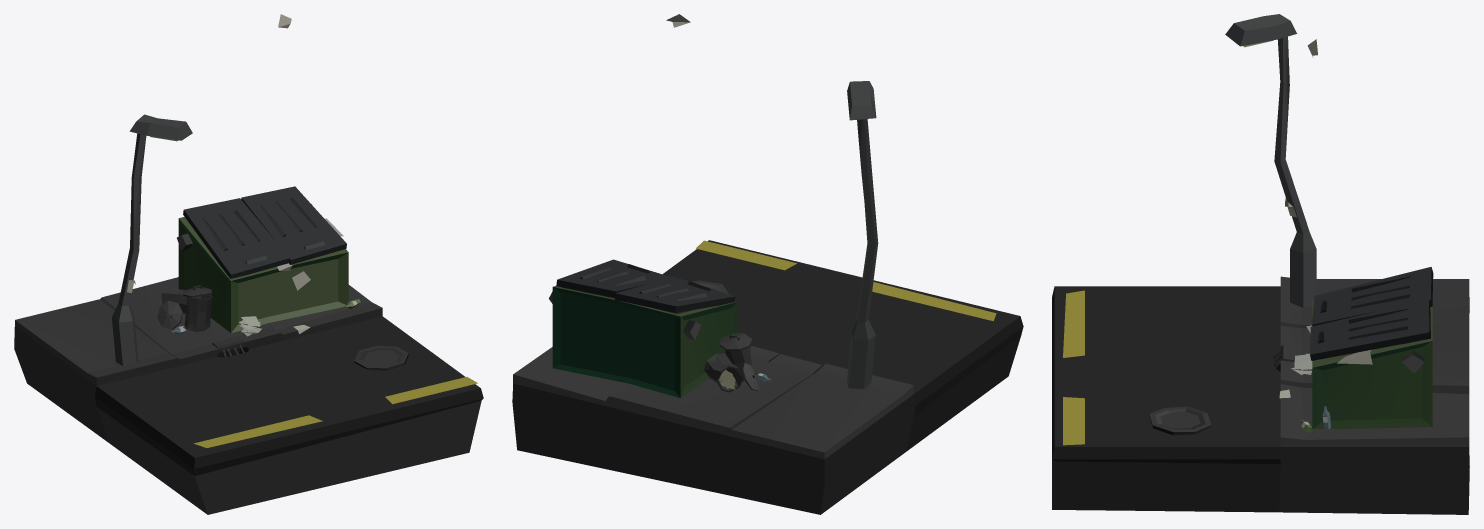
The model's file is City Slize MDL.fbx.
3 renders of one model, left to right at view 1: azimuth 30°, elevation 25°; view 2: azimuth 150°, elevation 25°; view 3: azimuth 270°, elevation 25°, orthographic. The views are drawn at different scales.
Visible parts, largest first — view 1: CitySceneCutOut; view 2: CitySceneCutOut; view 3: CitySceneCutOut.
Part boxes in pixels (bbox=[...]): CitySceneCutOut: bbox=[14, 114, 483, 514]; CitySceneCutOut: bbox=[512, 81, 1023, 514]; CitySceneCutOut: bbox=[1052, 14, 1469, 514].
Bounding box in the file's own units: 737 × 906 × 799.
